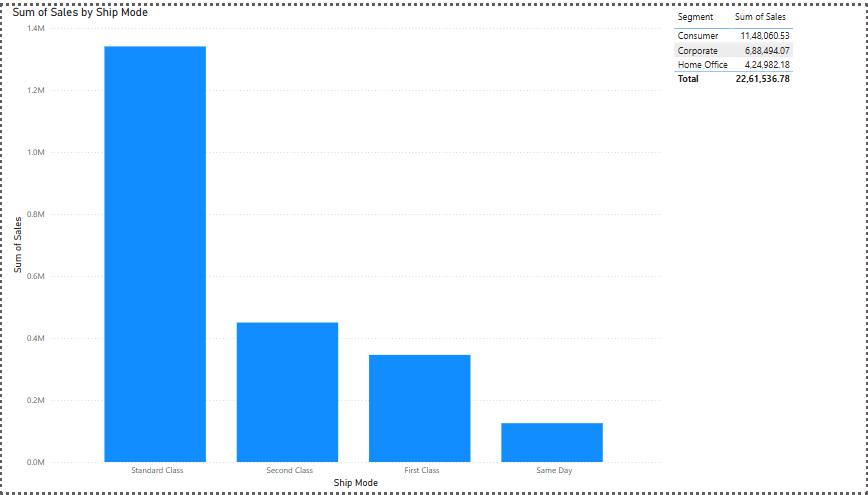

What the dashboard file says about the page in this screenshot:
{"tool":"powerbi","page":{"name":"Most selected Ship Mode","canvas":[1280,720],"ordinal":0},"visuals":[{"type":"clusteredColumnChart","fields":{"Y":["Sum(SuperStore_sales.Sales)"],"Category":["SuperStore_sales.Ship Mode"]},"box":[11.1,0,970.3,719.4],"z":0},{"type":"tableEx","fields":{"Values":["SuperStore_sales.Segment","Sum(SuperStore_sales.Sales)"]},"box":[990,0,290,720],"z":1000}]}

Visuals, with their boxes in screenshot pixels (x1, y1, x2, y2), scaled from the page's 1280x720 canvas onto the 868x495 screenshot:
clusteredColumnChart - Sum(SuperStore_sales.Sales) x SuperStore_sales.Ship Mode: (8, 0, 666, 494)
tableEx - SuperStore_sales.Segment x Sum(SuperStore_sales.Sales): (671, 0, 867, 494)
